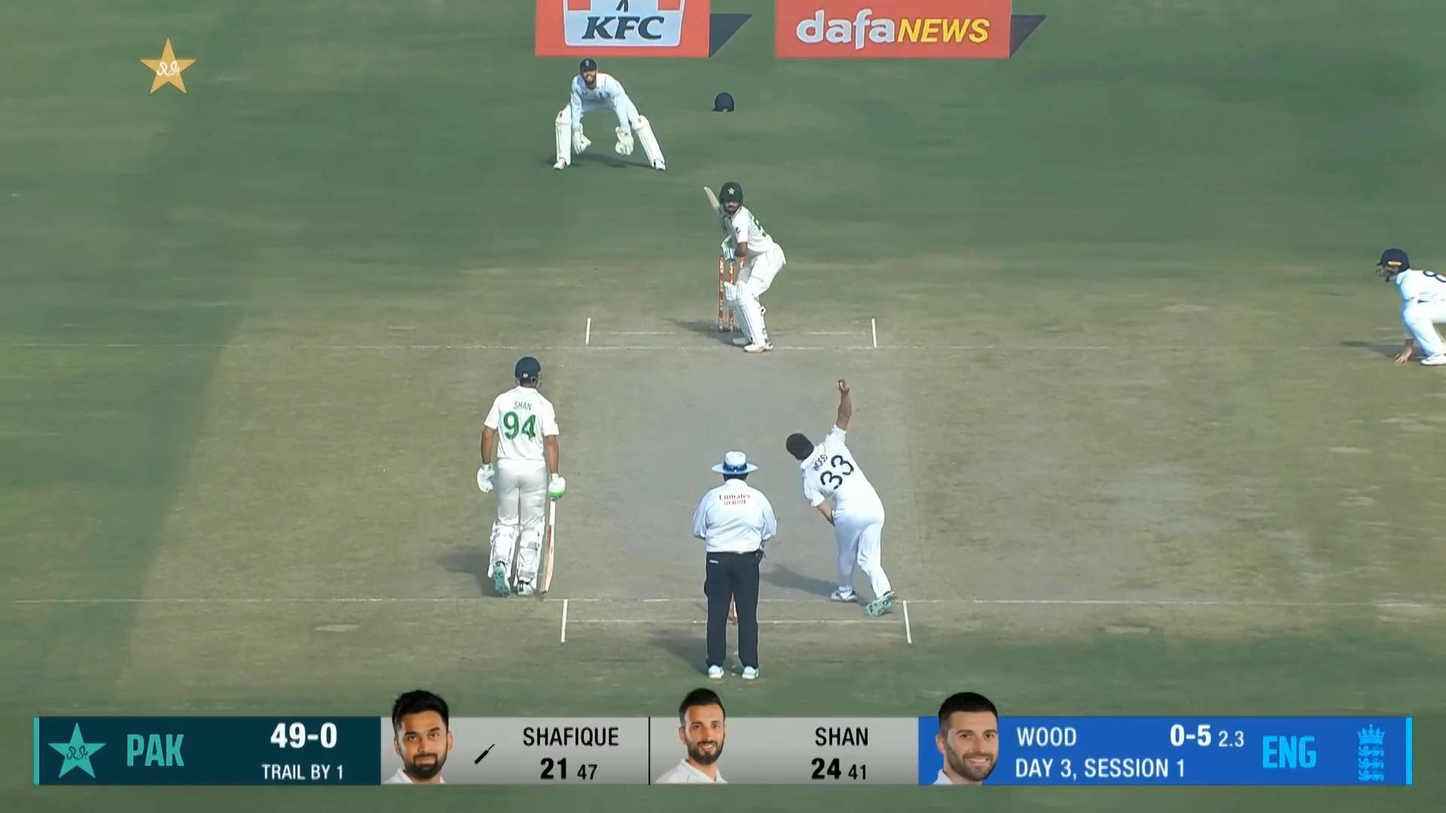BM 1: (702, 181, 789, 353)
BO: (782, 372, 902, 622)
